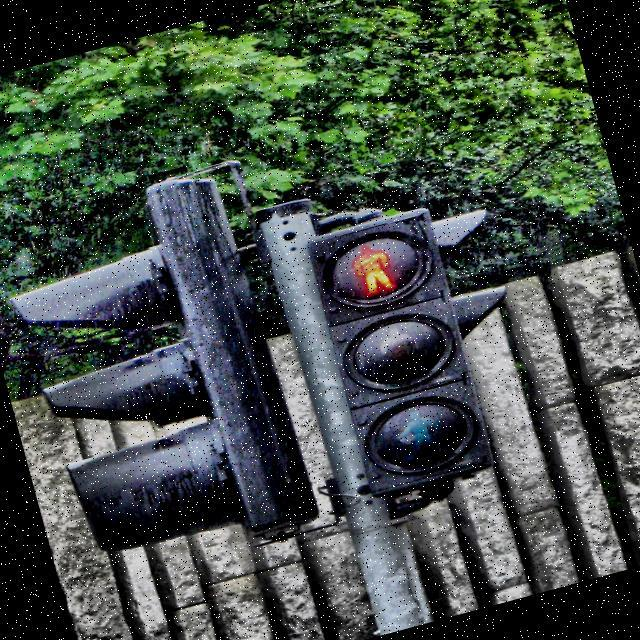red_light: (343, 237, 399, 301)
